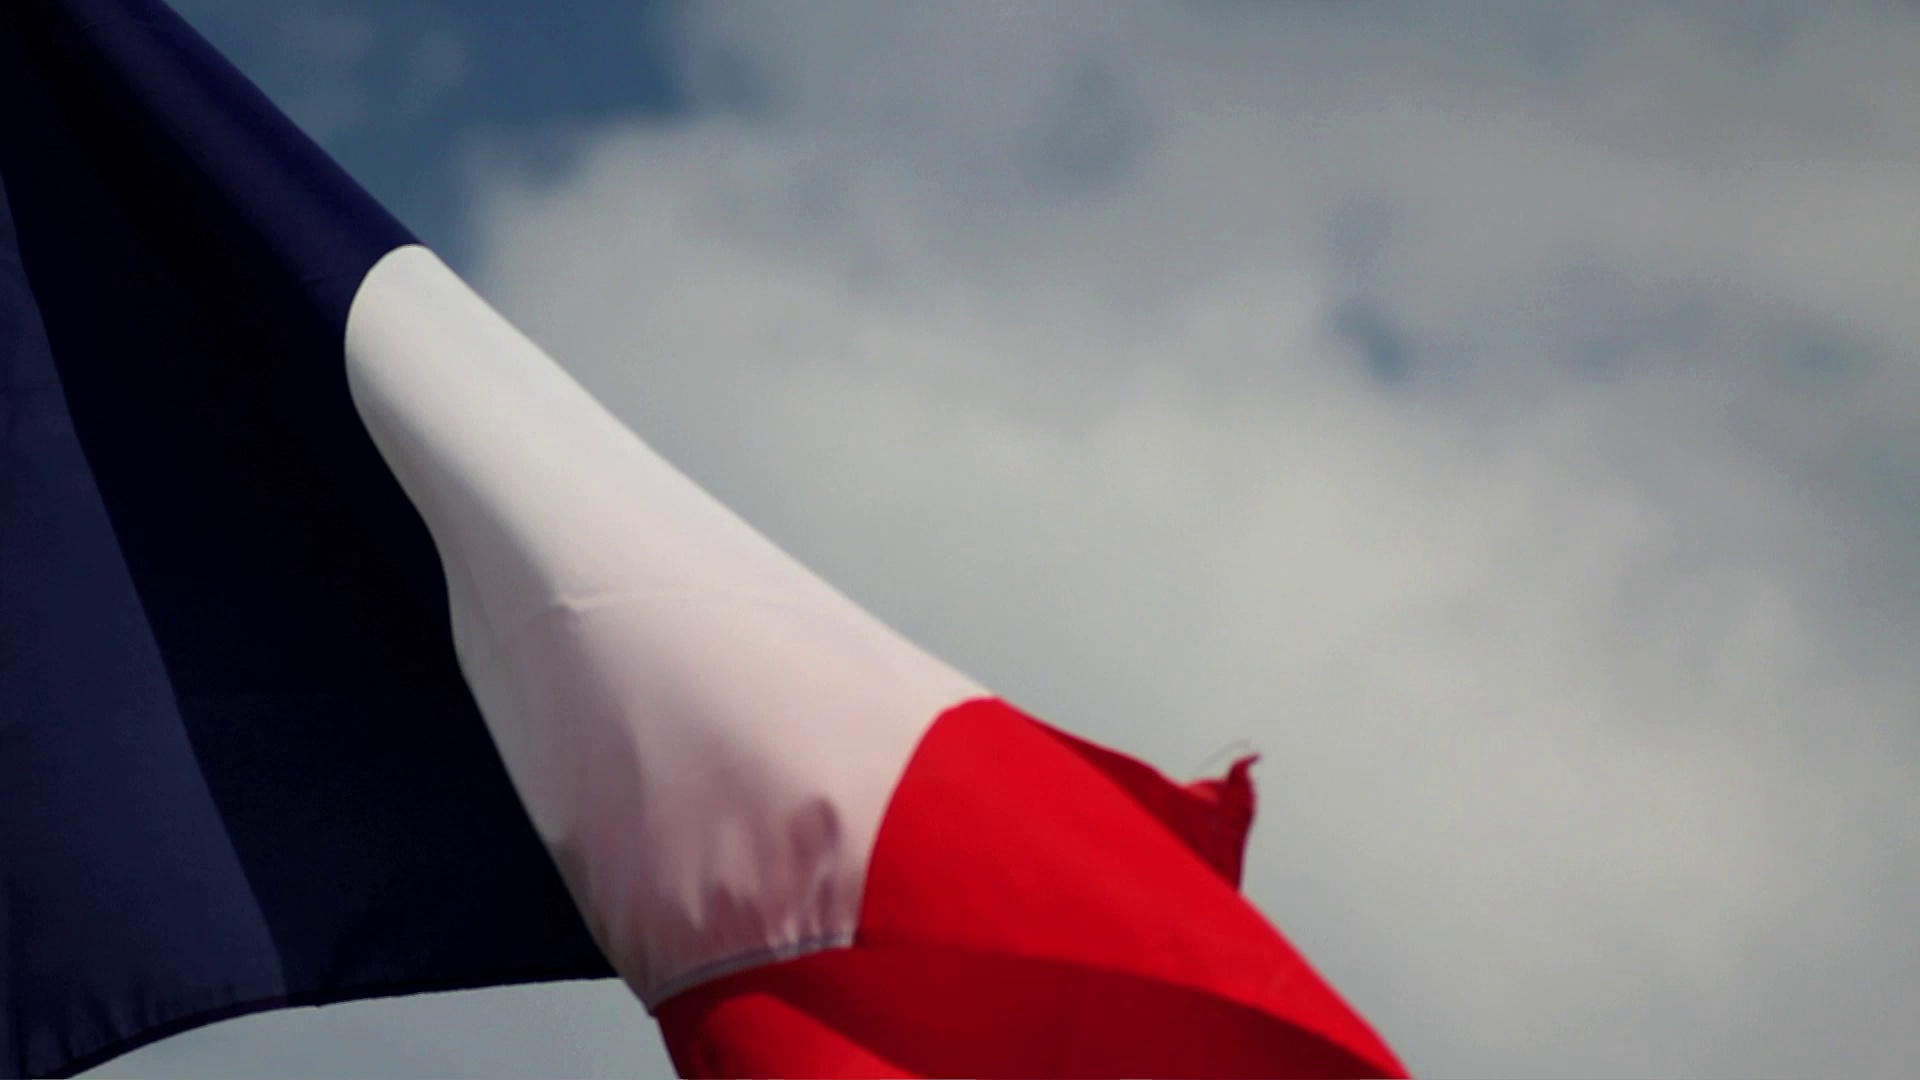French Flag: (1, 1, 1410, 1080)
